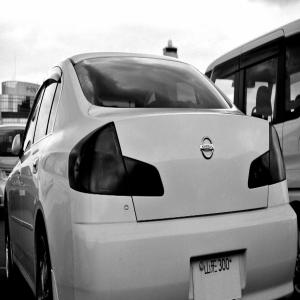Vehicle-registration-plate: (203, 258, 244, 286)
